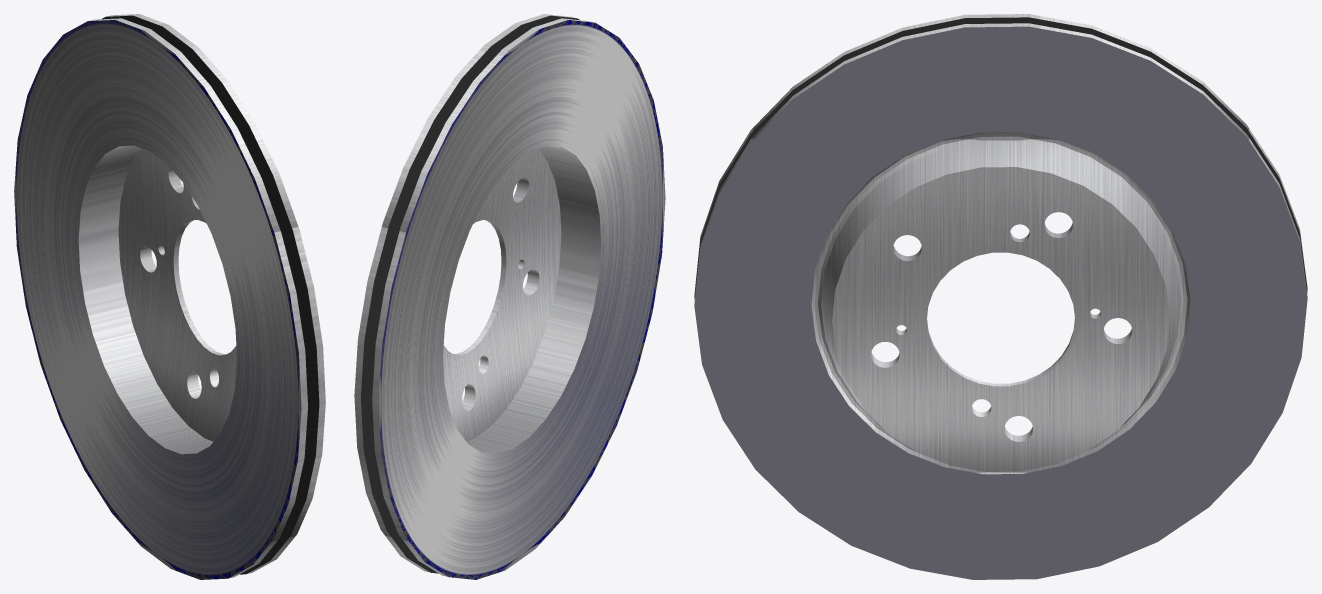
Rendered from rotor_obj.obj.
The picture shows the model from 3 angles, left to right: view 1: azimuth 30°, elevation 25°; view 2: azimuth 150°, elevation 25°; view 3: azimuth 270°, elevation 25°; orthographic projection. The views are drawn at different scales.
Visible parts, largest first — view 1: Mesh1 Component_3_1 Model; view 2: Mesh1 Component_3_1 Model; view 3: Mesh1 Component_3_1 Model.
Part boxes in pixels (x1,y1,x2,y2): Mesh1 Component_3_1 Model: (14, 14, 325, 579); Mesh1 Component_3_1 Model: (354, 14, 665, 579); Mesh1 Component_3_1 Model: (694, 14, 1307, 579).
Bounding box in the file's own units: 0.0418 × 0.3742 × 0.3758.
4 materials, 2 textured.
